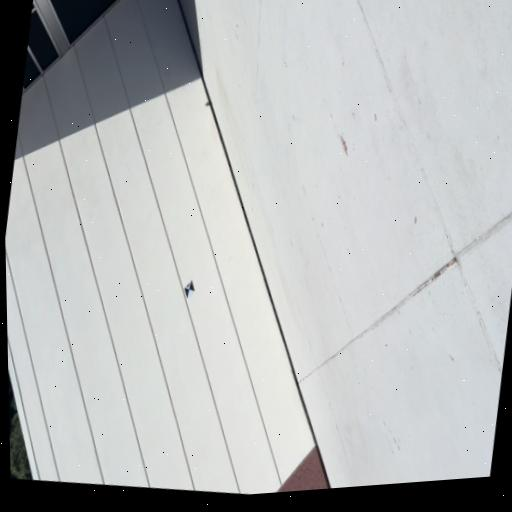target4: (184, 279, 195, 299)
